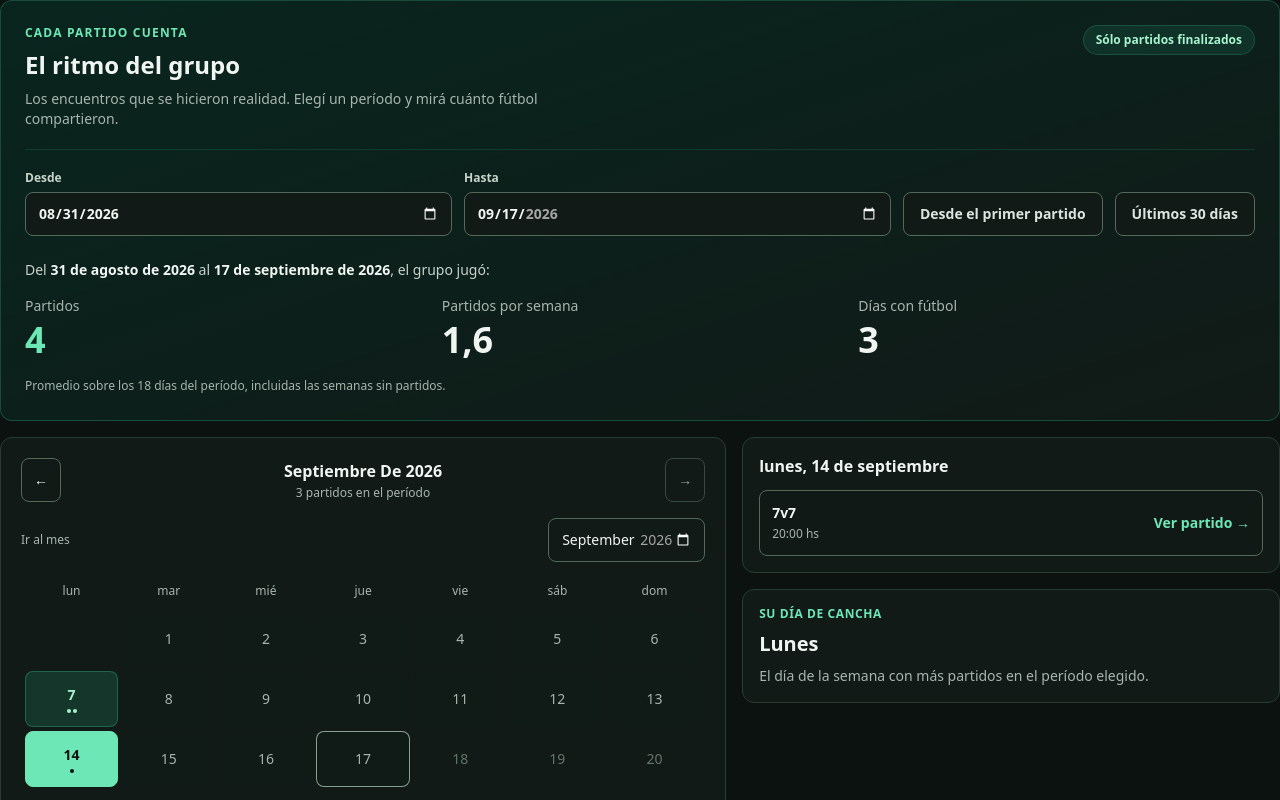
Test: MatchActivityCalendar › selecciona un día marcado y enlaza sus partidos con grupo, temporada, página y calendario
Step 1. Click the button named "7 de septiembre de 2026: 2 partidos" → (72, 698), box [25,670,118,726]
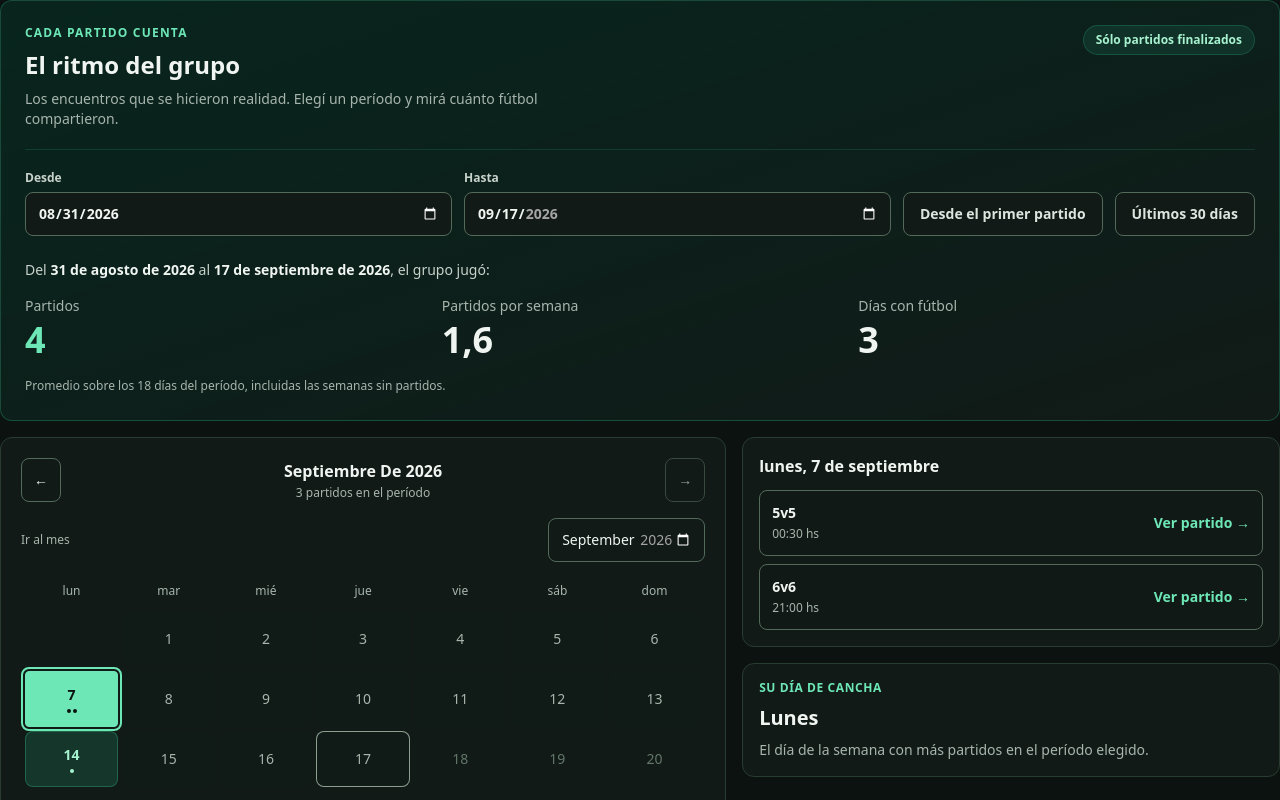
Result: the number of links "5v5 00:30 hs Ver partido →" is 2 at [759,490,1263,556]; [759,564,1263,630]
